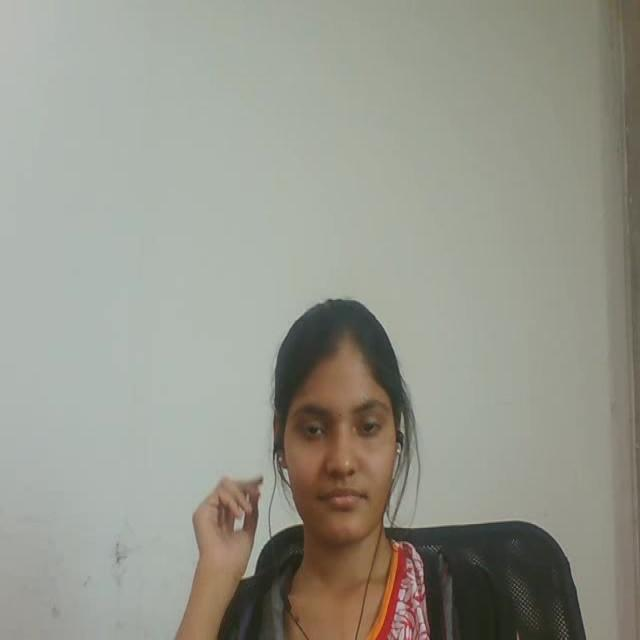Bored: (264, 272, 425, 564)
